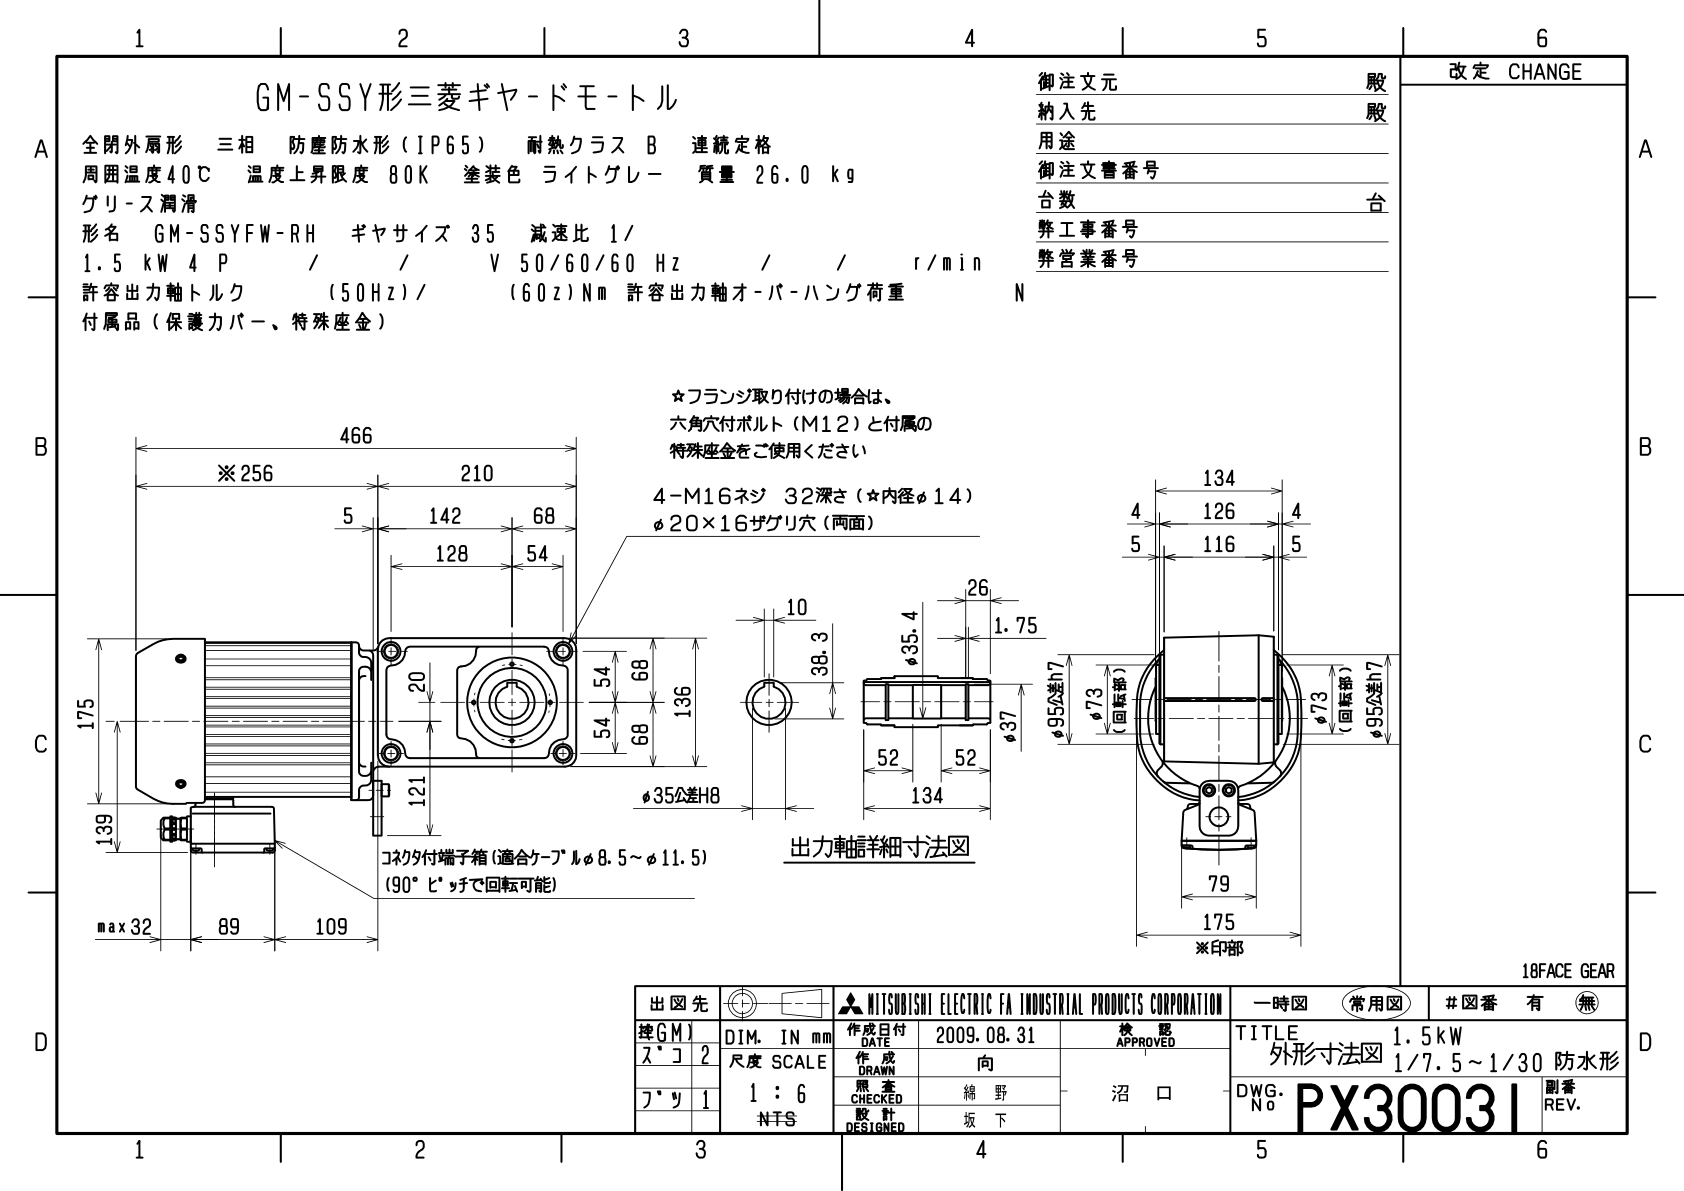GM_SSY_IP65_三相: (1, 1, 1680, 1169)
